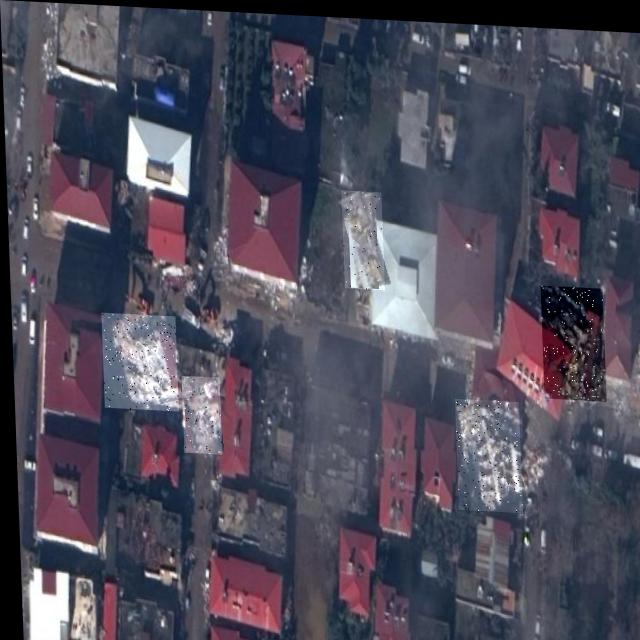Rubble: (452, 394, 519, 508), (99, 312, 176, 410), (539, 280, 604, 395), (340, 187, 383, 286), (179, 374, 219, 452)
